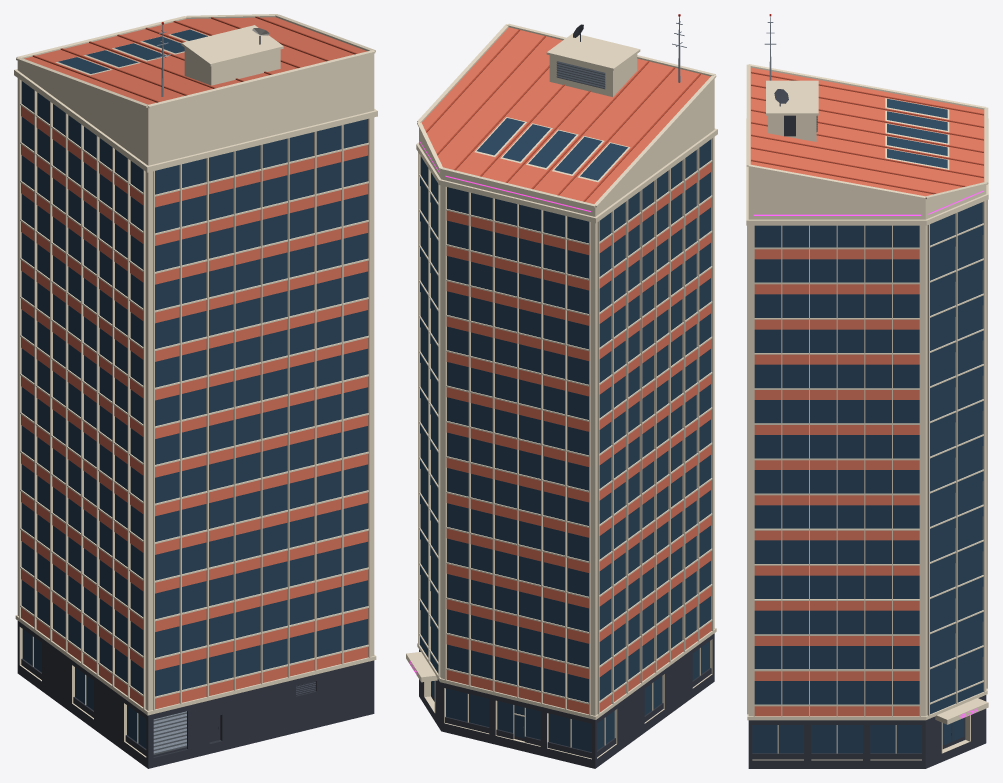
Rendered from office_d.glb.
The picture shows the model from 3 angles, left to right: view 1: azimuth 30°, elevation 25°; view 2: azimuth 150°, elevation 25°; view 3: azimuth 270°, elevation 25°; orthographic projection. The views are drawn at different scales.
Parts seen in each view (by area): view 1: Building, Building_Glass; view 2: Building, Building_Glass, Building_Detail; view 3: Building_Glass, Building, Building_Detail, Building_Neon.
Boxes of the visible parts, x1,y1,x2,y2 form: Building: (14, 14, 377, 768); Building_Glass: (21, 29, 367, 748); Building: (416, 23, 717, 768); Building_Glass: (420, 118, 710, 752); Building_Detail: (406, 14, 686, 731); Building_Glass: (752, 98, 983, 753); Building: (746, 64, 988, 768); Building_Detail: (764, 14, 988, 735); Building_Neon: (753, 190, 983, 719).
Bounding box in the file's own units: 20 × 60.62 × 20.
